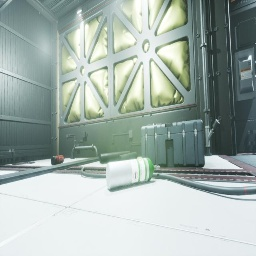0: (106, 158, 160, 190)
FireExtinguisher ]: (51, 155, 67, 165)
SafetySwitchPanel ,: (233, 47, 256, 102)
